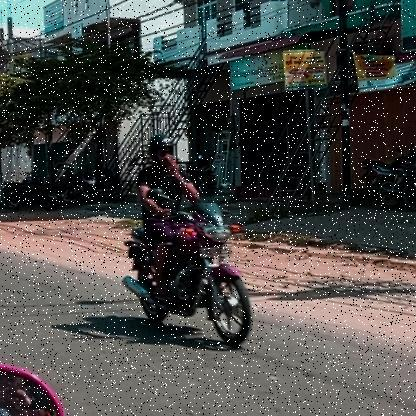motorcycle: (120, 200, 257, 350)
